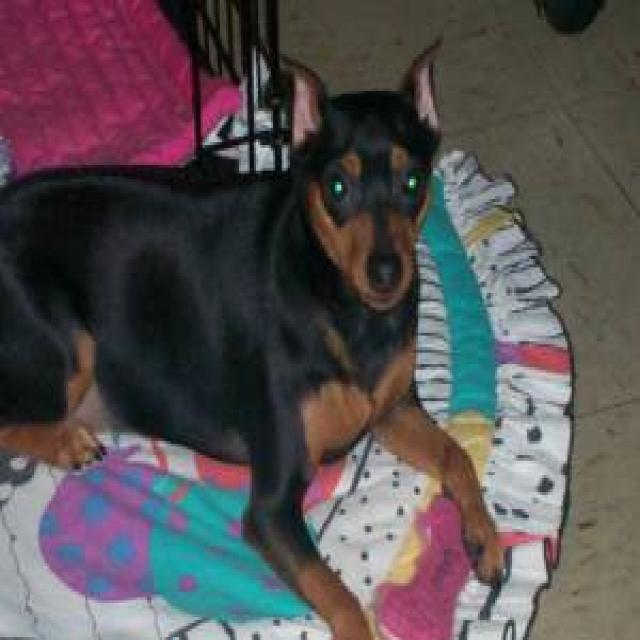dog-miniature_pinscher: (2, 26, 514, 634)
